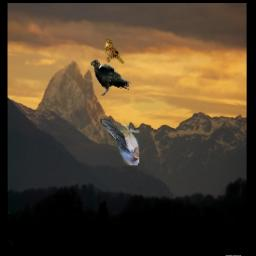Crow: (90, 59, 132, 97)
Sparrow: (104, 39, 124, 65)
Swallow: (100, 119, 139, 165)
